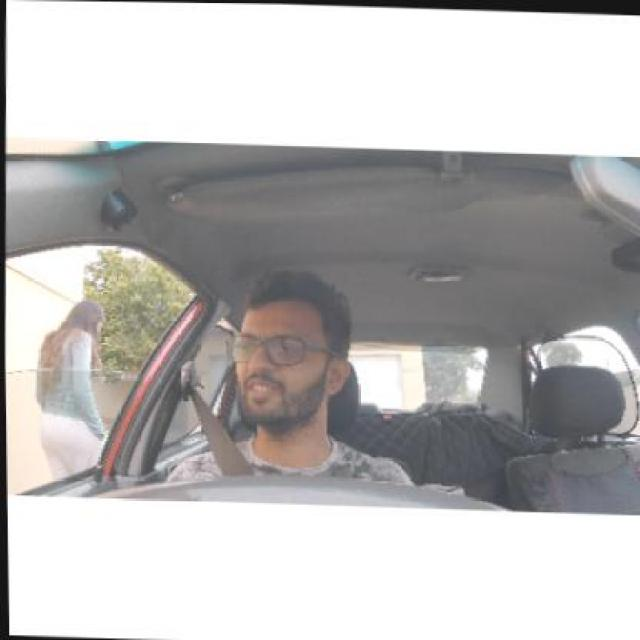LeftRight: (227, 260, 358, 462)
